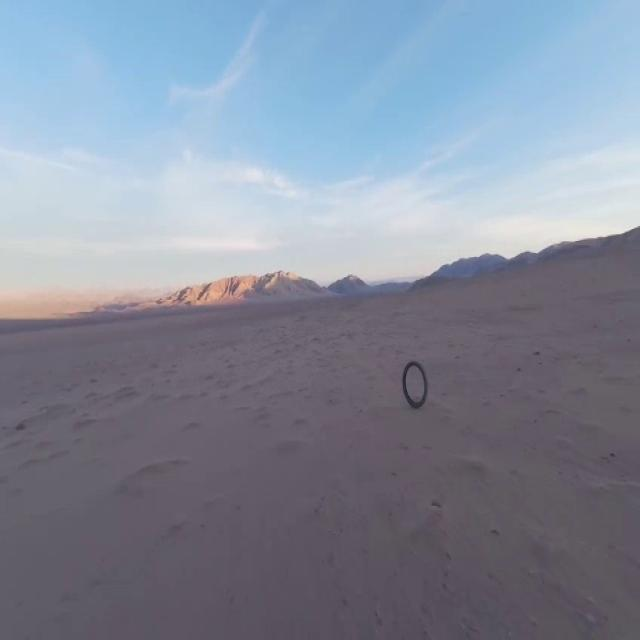Tire: (402, 360, 428, 408)
